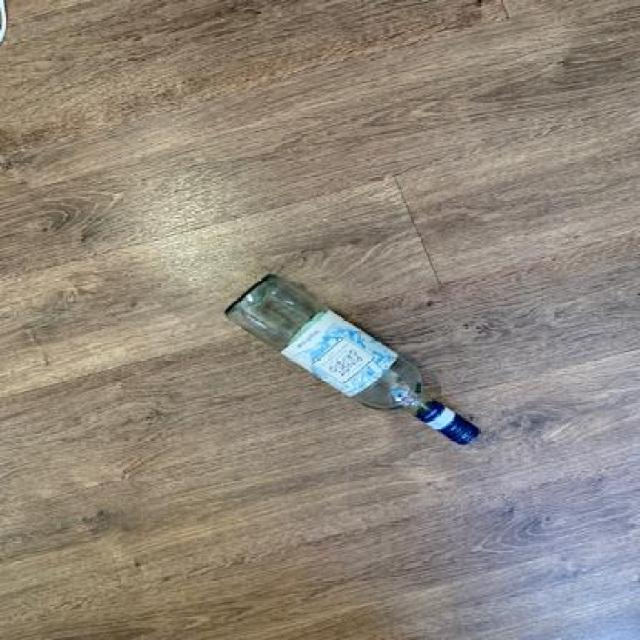trash: (222, 272, 488, 453)
